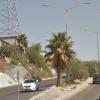Palm tree: (44, 25, 76, 85)
